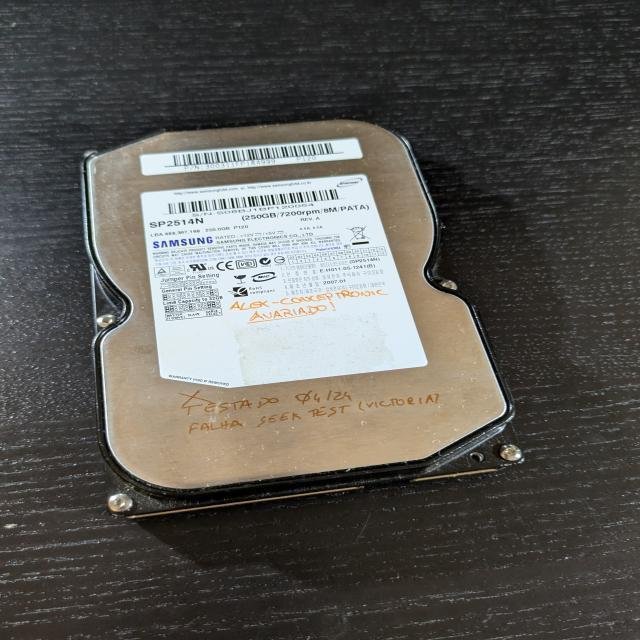DISK: (80, 116, 530, 522)
